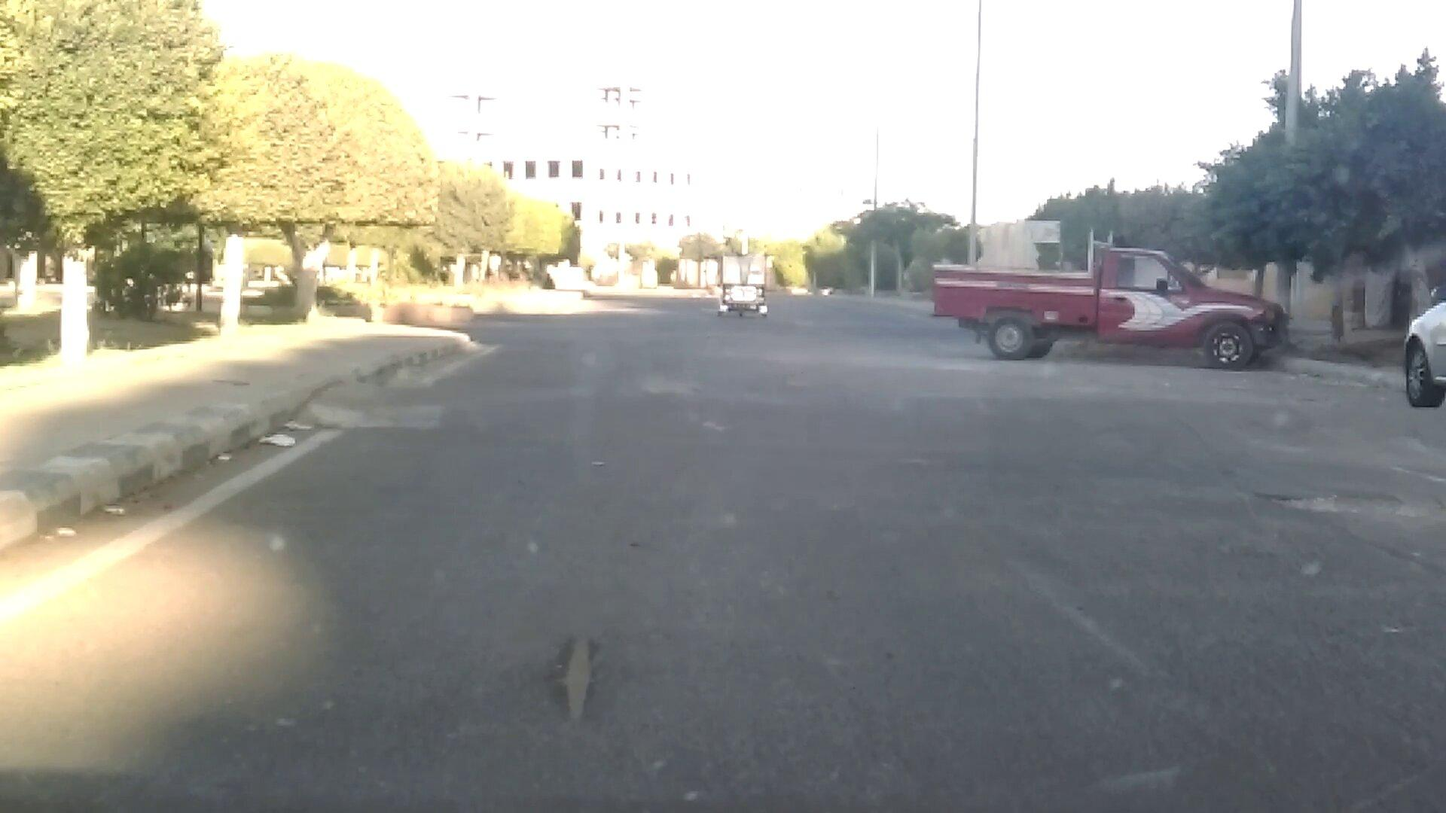Bump: (426, 350, 1397, 429)
Pothole: (527, 615, 618, 751), (1256, 476, 1423, 519)
